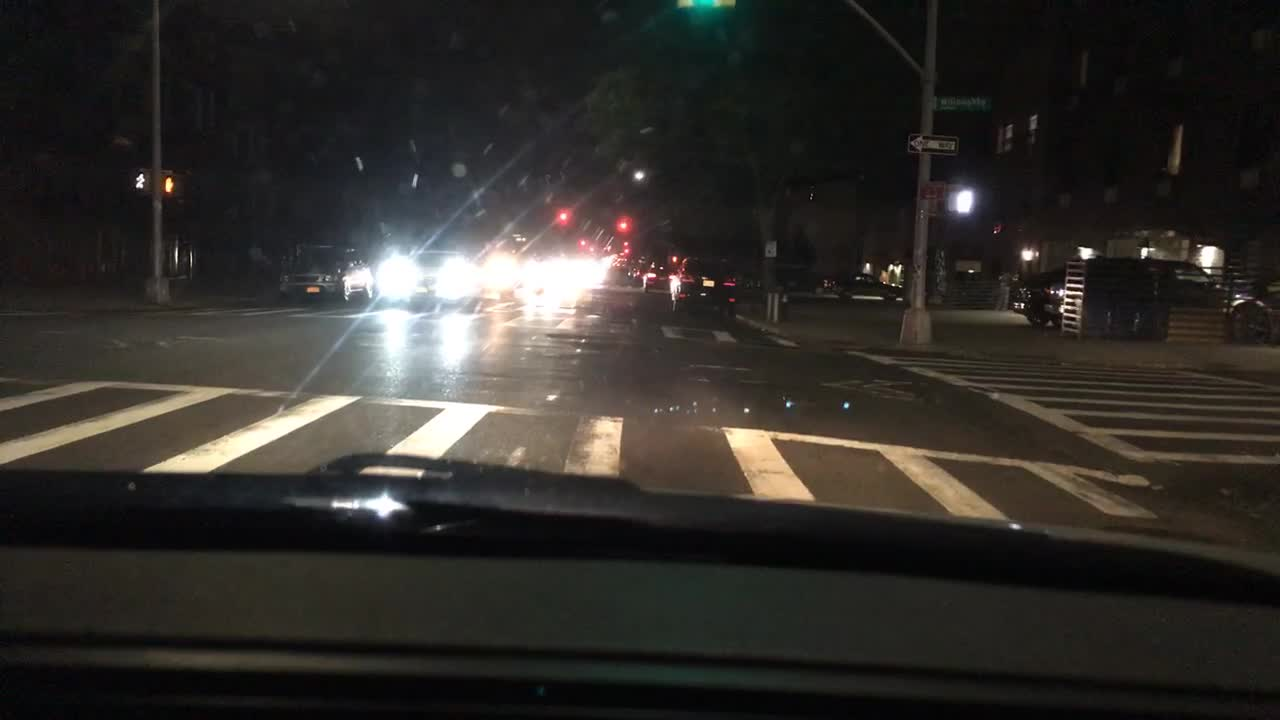car: (1004, 254, 1272, 332), (277, 240, 373, 303), (375, 249, 480, 306), (670, 254, 737, 320), (480, 252, 563, 297), (829, 268, 903, 301), (776, 262, 837, 288), (641, 260, 671, 292), (629, 254, 649, 280), (609, 249, 630, 271)
traffic light: (949, 186, 982, 214), (664, 0, 728, 14), (162, 171, 189, 198), (131, 168, 146, 191), (616, 217, 632, 232), (558, 208, 570, 226)
traffic sign: (906, 133, 959, 154), (932, 96, 990, 111), (921, 182, 945, 200), (765, 238, 777, 258)
